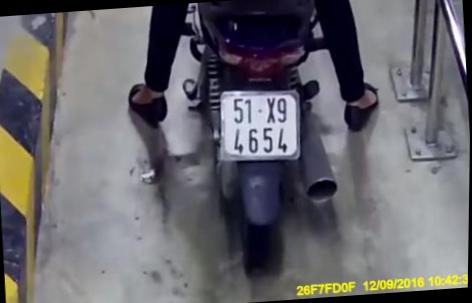LP: (214, 82, 308, 169)
